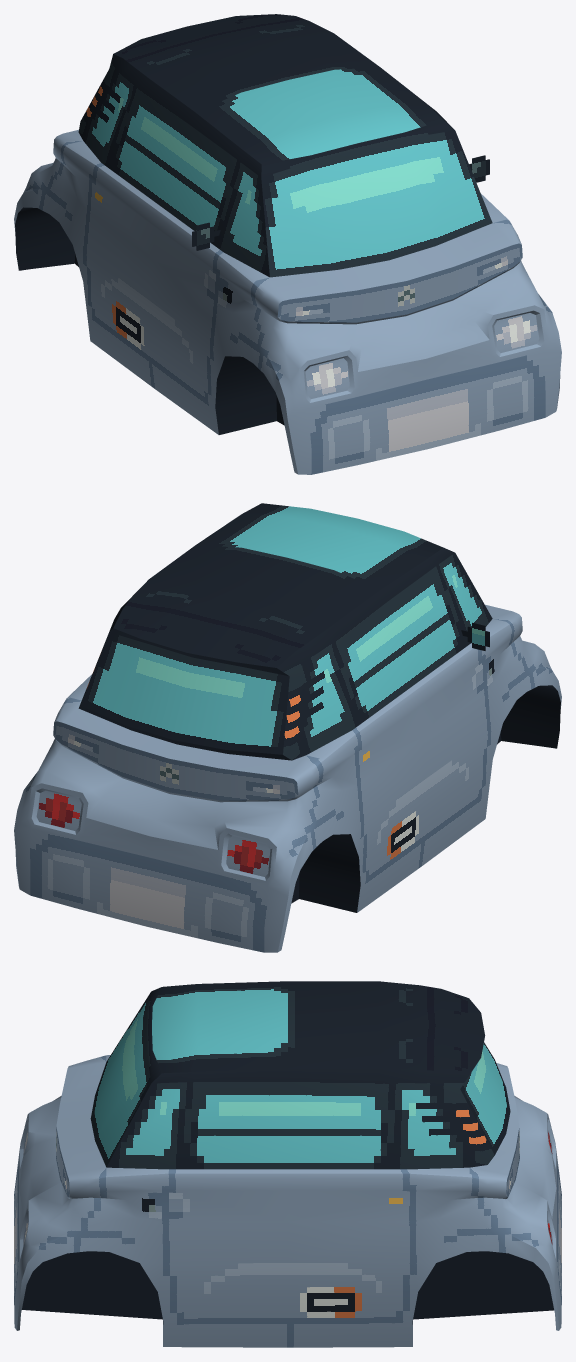
Rendered from citroenAmi.glb.
The picture shows the model from 3 angles, top to bottom: view 1: azimuth 30°, elevation 25°; view 2: azimuth 150°, elevation 25°; view 3: azimuth 270°, elevation 25°; orthographic projection. The views are drawn at different scales.
Parts seen in each view (by area): view 1: BodyAmi; view 2: BodyAmi; view 3: BodyAmi.
Part boxes in pixels (x1,y1,x2,y2): BodyAmi: [14, 14, 561, 474]; BodyAmi: [14, 503, 561, 952]; BodyAmi: [14, 981, 561, 1347].
Size of the model in its own units: 1.48 by 1.31 by 2.43.
Materials: 1 (1 with a texture image).
